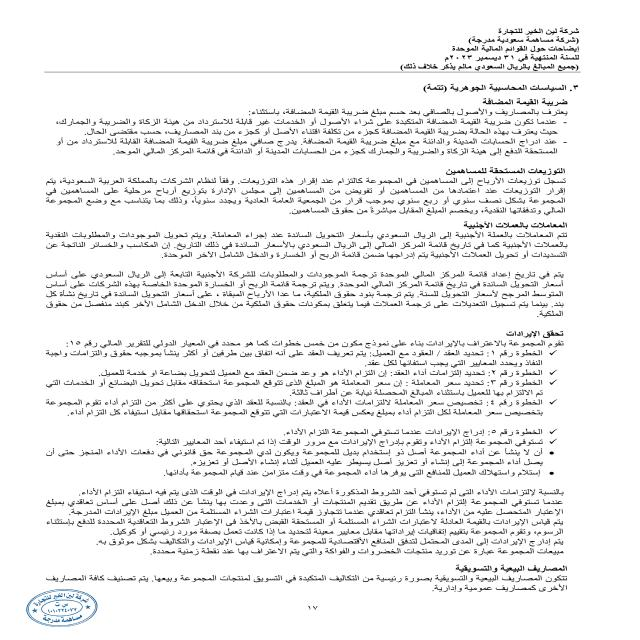notes: (453, 45, 582, 56)
text: (47, 78, 585, 597)
